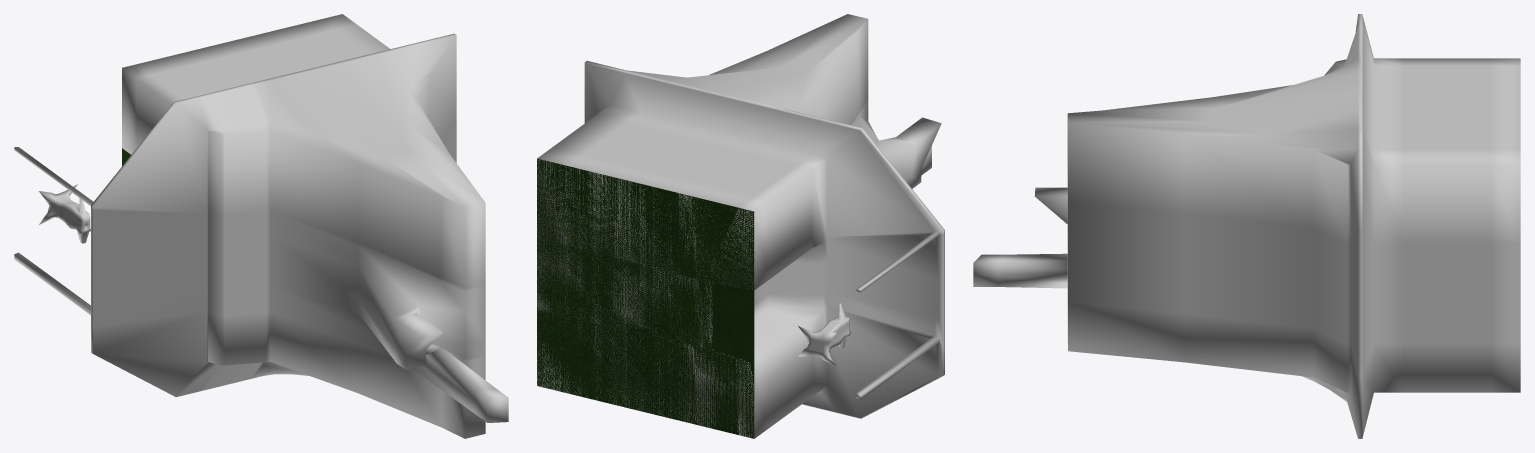
Rendered from Schmiede_dim_10x10.fbx.
3 views of the same model, side by side, from view 1: azimuth 30°, elevation 25°; view 2: azimuth 150°, elevation 25°; view 3: azimuth 270°, elevation 25° (orthographic).
Parts seen in each view (by area): view 1: Schmiede; view 2: Schmiede, Plane1; view 3: Schmiede.
Boxes of the visible parts, left/top/right/bottom form: Schmiede: left=14, top=14, right=508, bottom=438; Schmiede: left=537, top=14, right=944, bottom=438; Plane1: left=537, top=158, right=754, bottom=438; Schmiede: left=973, top=14, right=1520, bottom=438.
Bounding box in the file's own units: 16.47 × 12.71 × 21.75.
